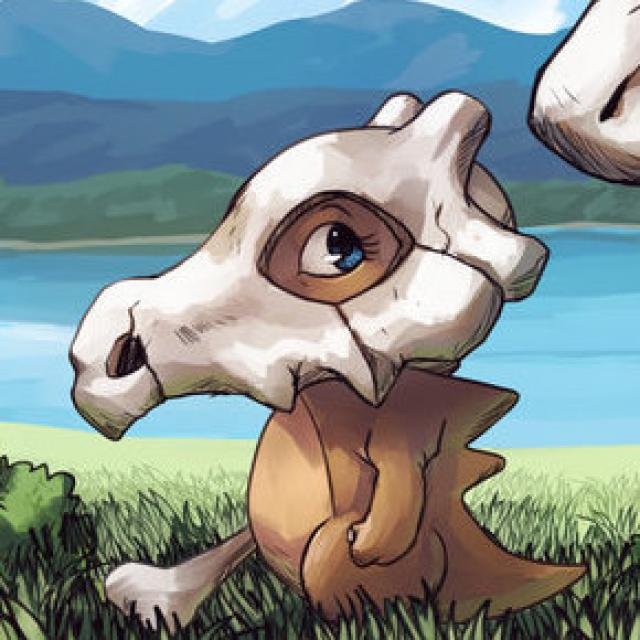Cubone: (67, 87, 586, 627)
